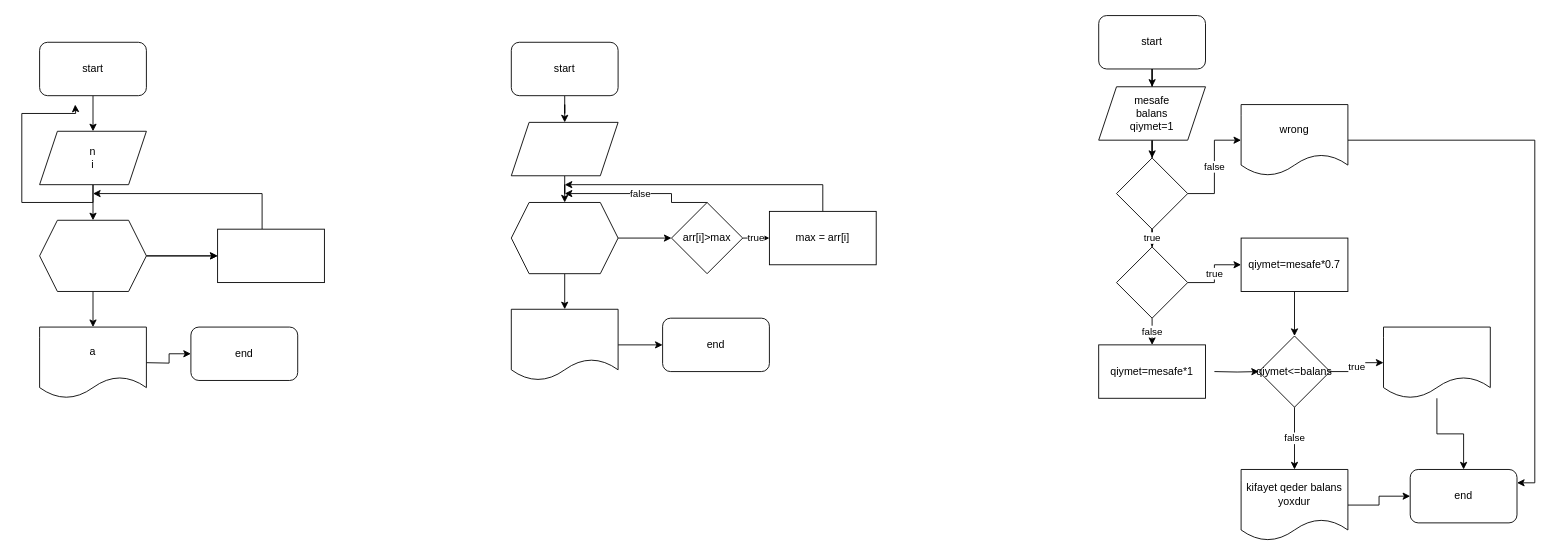
The diagram is 1558 pixels wide and 556 high, and some of its shapes have lost their labels. Each missing label, with the box of its shape:
a = i: (217, 228, 324, 283)
arr max=arr[0] i: (510, 121, 618, 176)
gede bilersen: (1383, 326, 1490, 398)
i=0;i<=arr.length;i++: (510, 202, 618, 274)
i=1;i*i<=n;i++: (39, 219, 146, 291)
max: (510, 308, 618, 380)
mesafe<=0: (1116, 157, 1188, 229)
mesafe>5: (1116, 246, 1188, 318)
